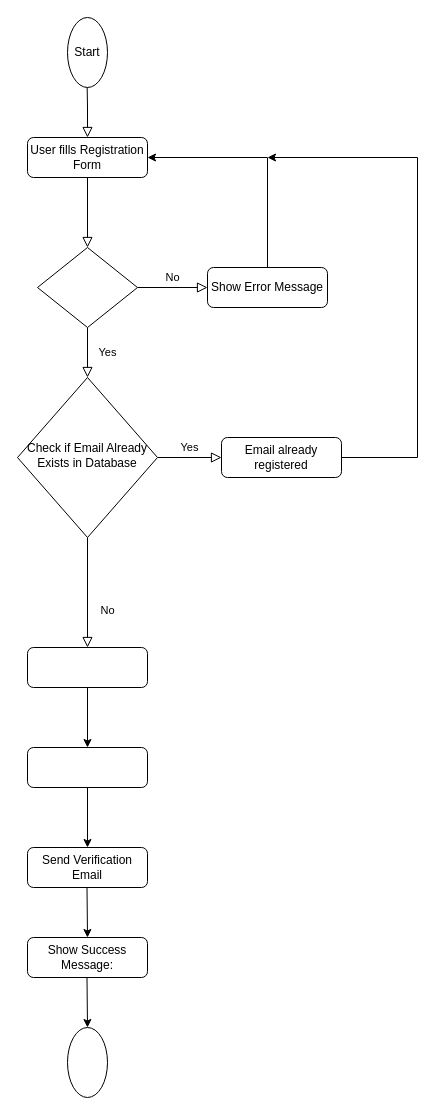
Image size: 443x1115. Some labels were removed from this diagram. Each missing label, with the centre of its shape:
"End" goes at [87,1062].
"Hash Password" goes at [87,667].
"Save User Data to Database" goes at [87,767].
"Validate Input Data" goes at [87,287].
